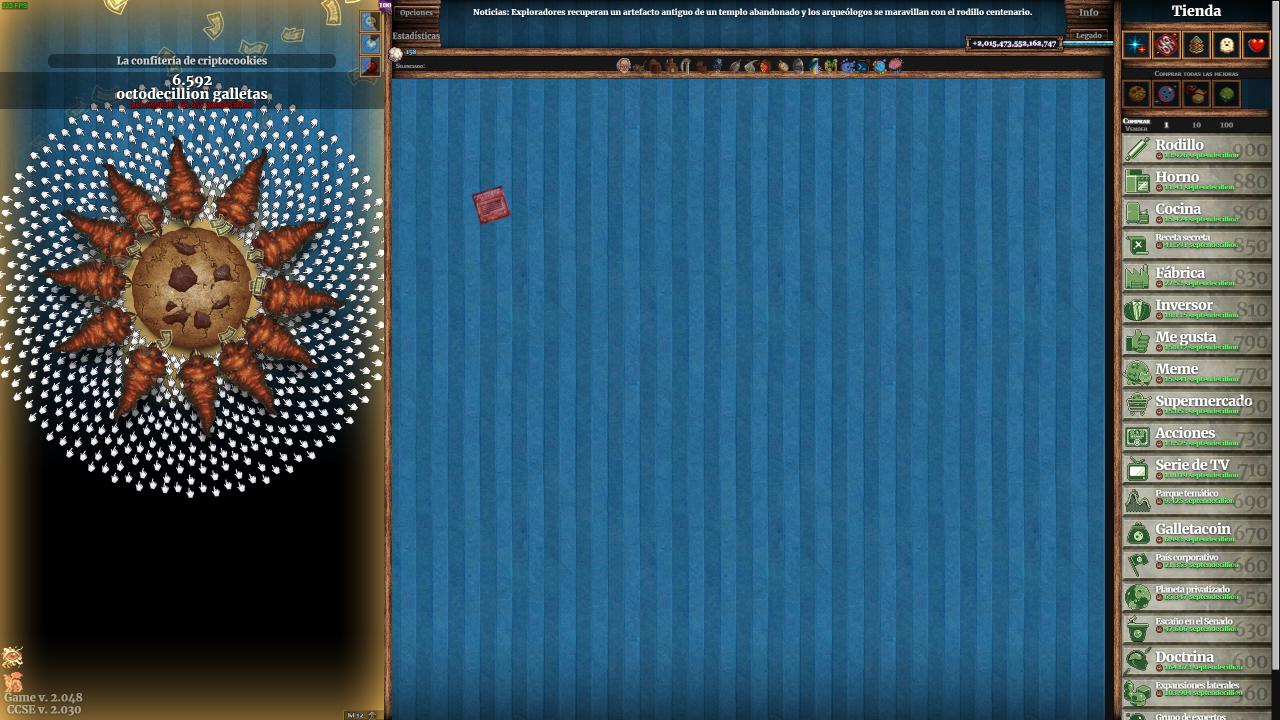RedCartridge: (471, 184, 512, 226)
